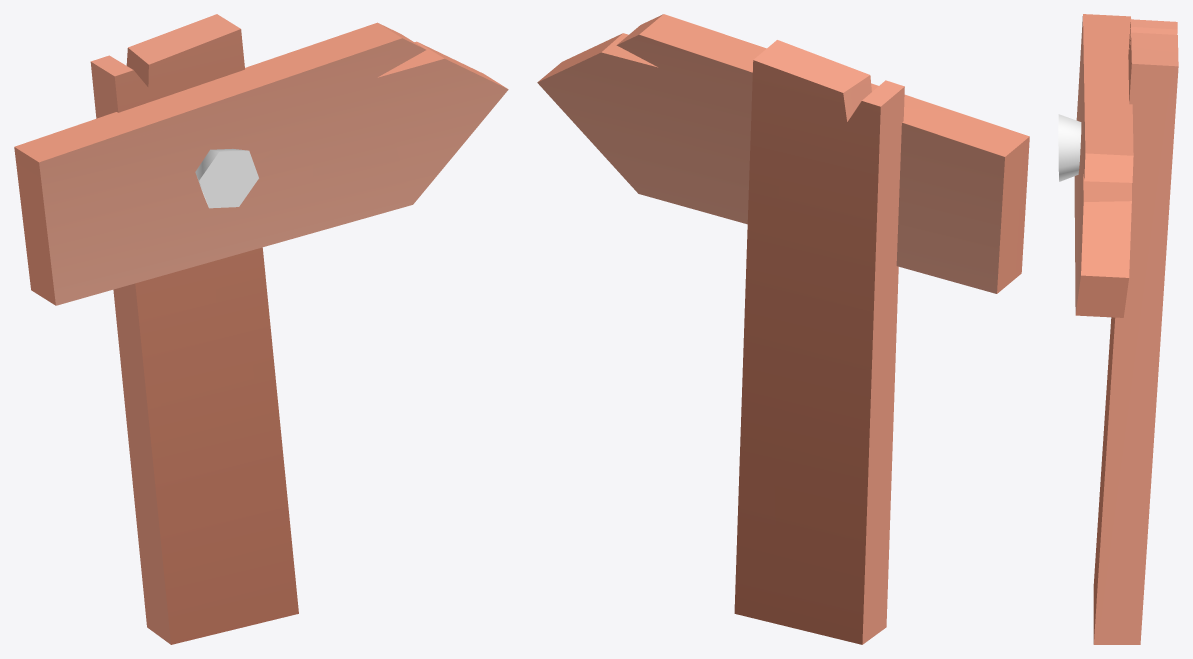
The model's file is indicator_002.glb.
3 views of the same model, side by side, from view 1: azimuth 30°, elevation 25°; view 2: azimuth 150°, elevation 25°; view 3: azimuth 270°, elevation 25° (orthographic). The views are drawn at different scales.
Parts seen in each view (by area): view 1: indicator_002; view 2: indicator_002; view 3: indicator_002.
Part boxes in pixels (x1,y1,x2,y2): indicator_002: (14,14,508,644); indicator_002: (537,14,1029,644); indicator_002: (1058,14,1178,644).
Size of the model in its own units: 1.06 by 1.25 by 0.2425.
1 material, 1 textured.
